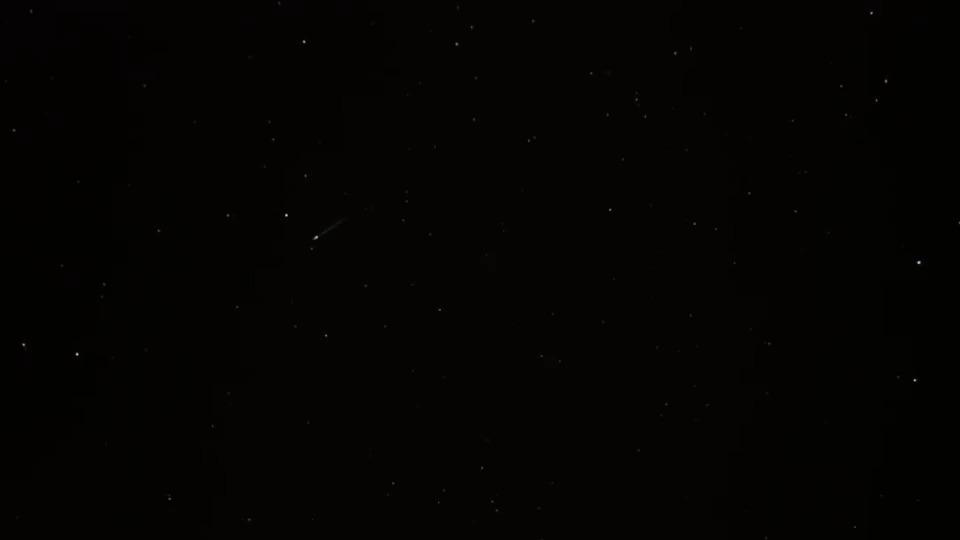meteorite: (280, 216, 393, 244)
